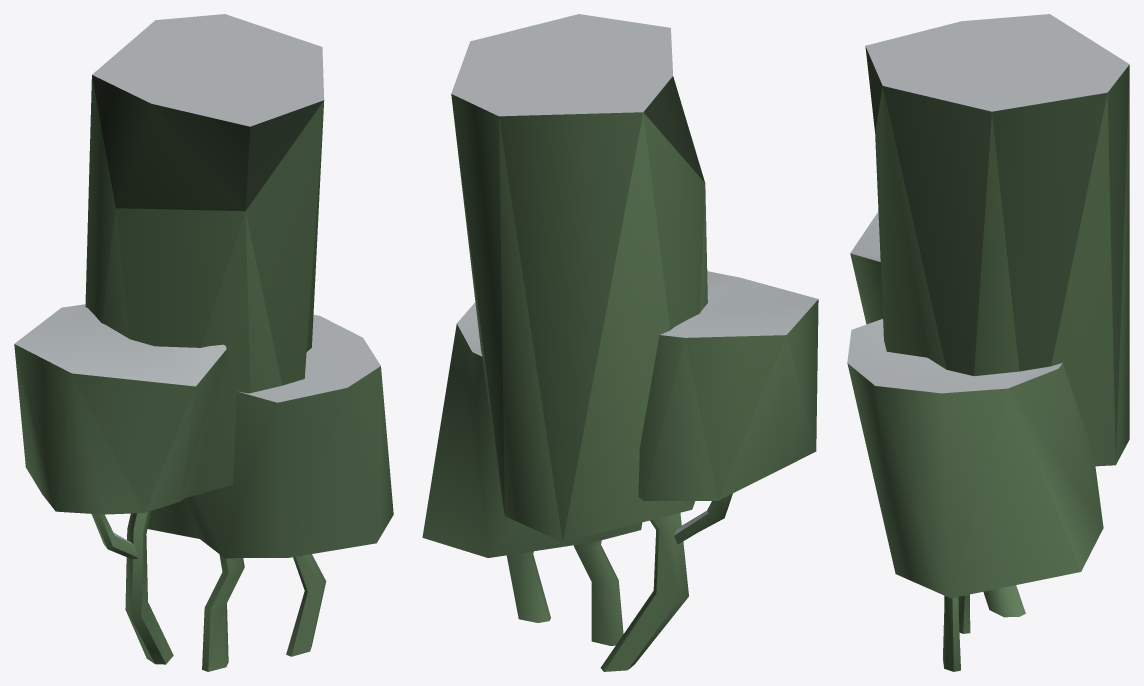
File: angular_bush__winter.glb
3 views of the same model, side by side, from view 1: azimuth 30°, elevation 25°; view 2: azimuth 150°, elevation 25°; view 3: azimuth 270°, elevation 25° (orthographic).
Bounding box in the file's own units: 0.7862 × 1.2 × 0.5343.
